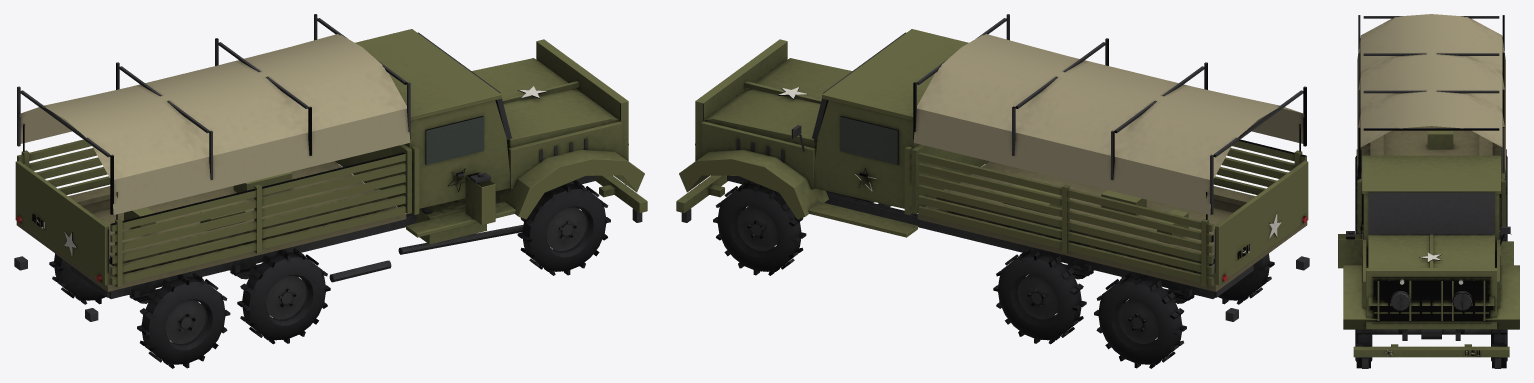
The model's file is army_truck.glb.
3 renders of one model, left to right at view 1: azimuth 30°, elevation 25°; view 2: azimuth 150°, elevation 25°; view 3: azimuth 270°, elevation 25°, orthographic. The views are drawn at different scales.
Parts seen in each view (by area): view 1: ArmyTruck; view 2: ArmyTruck; view 3: ArmyTruck.
Part boxes in pixels (x1,y1,x2,y2): ArmyTruck: [14, 14, 647, 368]; ArmyTruck: [676, 14, 1309, 368]; ArmyTruck: [1338, 14, 1519, 368].
Size of what is drawn, in the model's own units: 6.72 by 2.68 by 2.47.
Materials: 9 (9 with a texture image).
